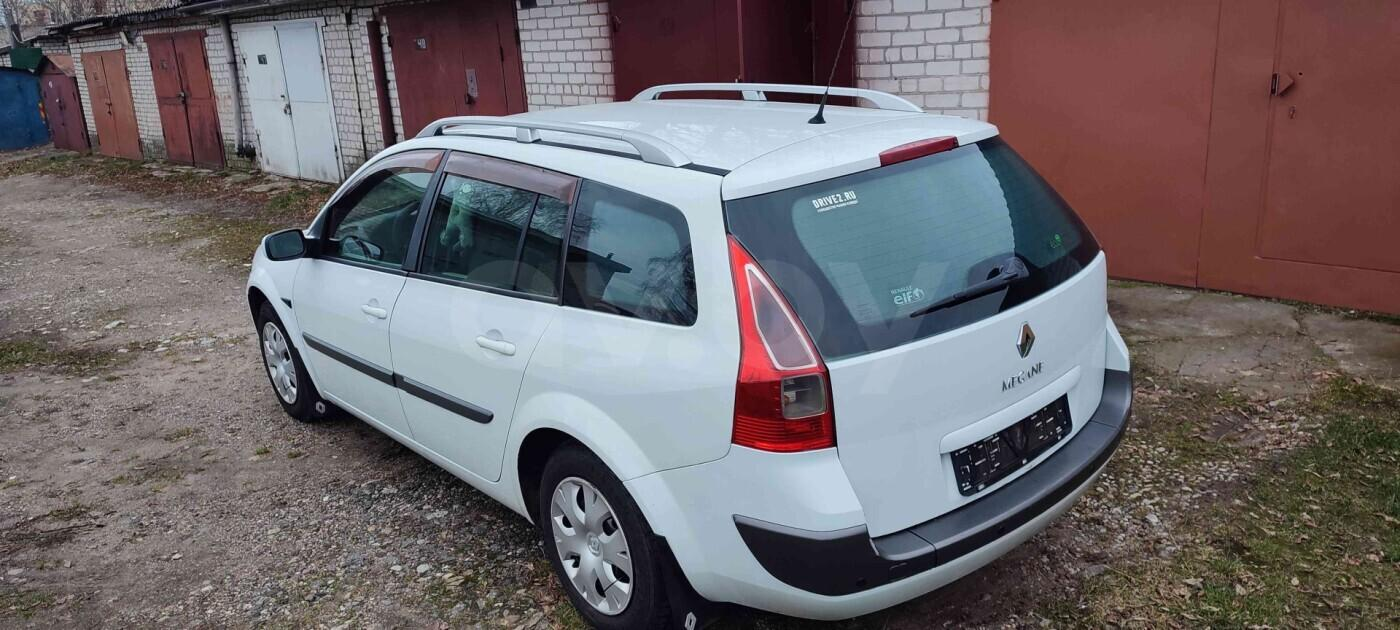Megane_2005-2009: (247, 94, 1138, 624)
